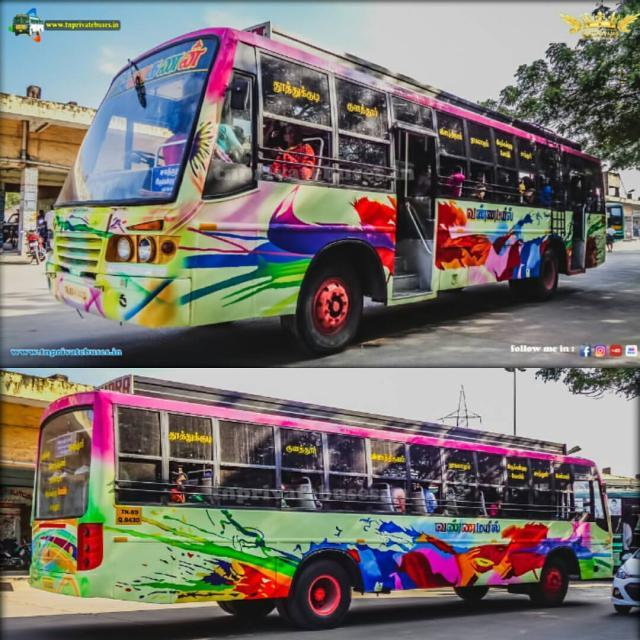Bus: (34, 25, 614, 358), (14, 375, 616, 619)
